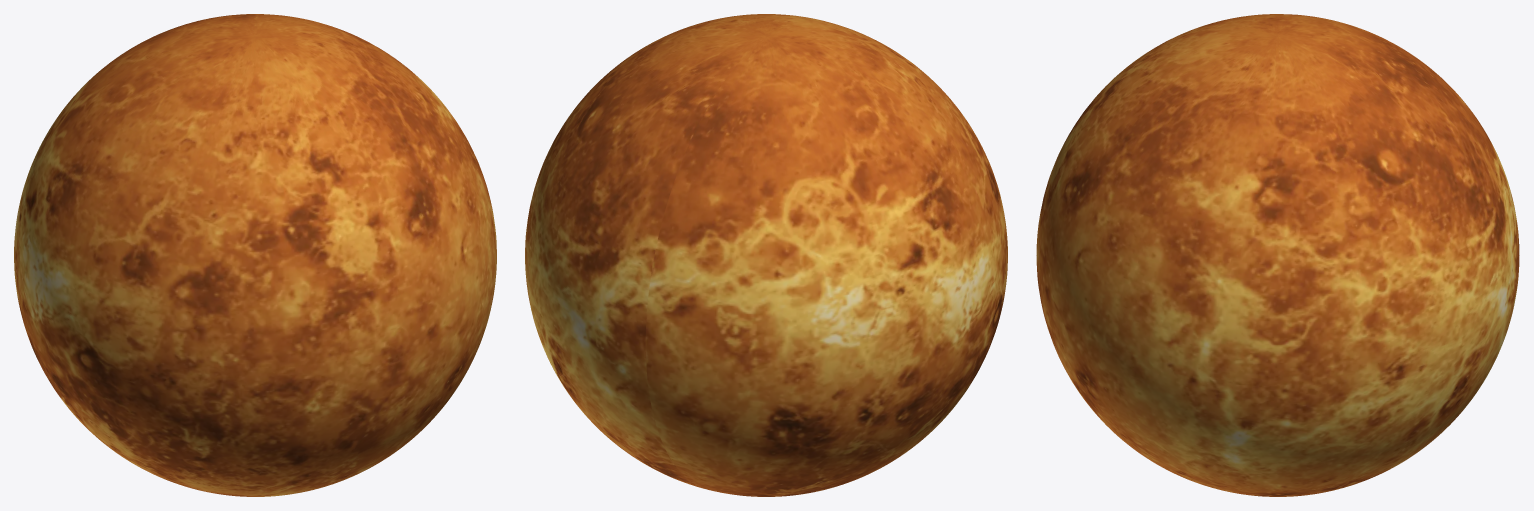
File: planet_17.glb
3 views of the same model, side by side, from view 1: azimuth 30°, elevation 25°; view 2: azimuth 150°, elevation 25°; view 3: azimuth 270°, elevation 25° (orthographic).
Visible parts, largest first — view 1: converted.glb; view 2: converted.glb; view 3: converted.glb.
Boxes of the visible parts, x1,y1,x2,y2 form: converted.glb: (14,14,496,496); converted.glb: (525,14,1007,496); converted.glb: (1036,14,1519,496).
Bounding box in the file's own units: 1.02 × 1.02 × 1.02.
Materials: 1 (1 with a texture image).
